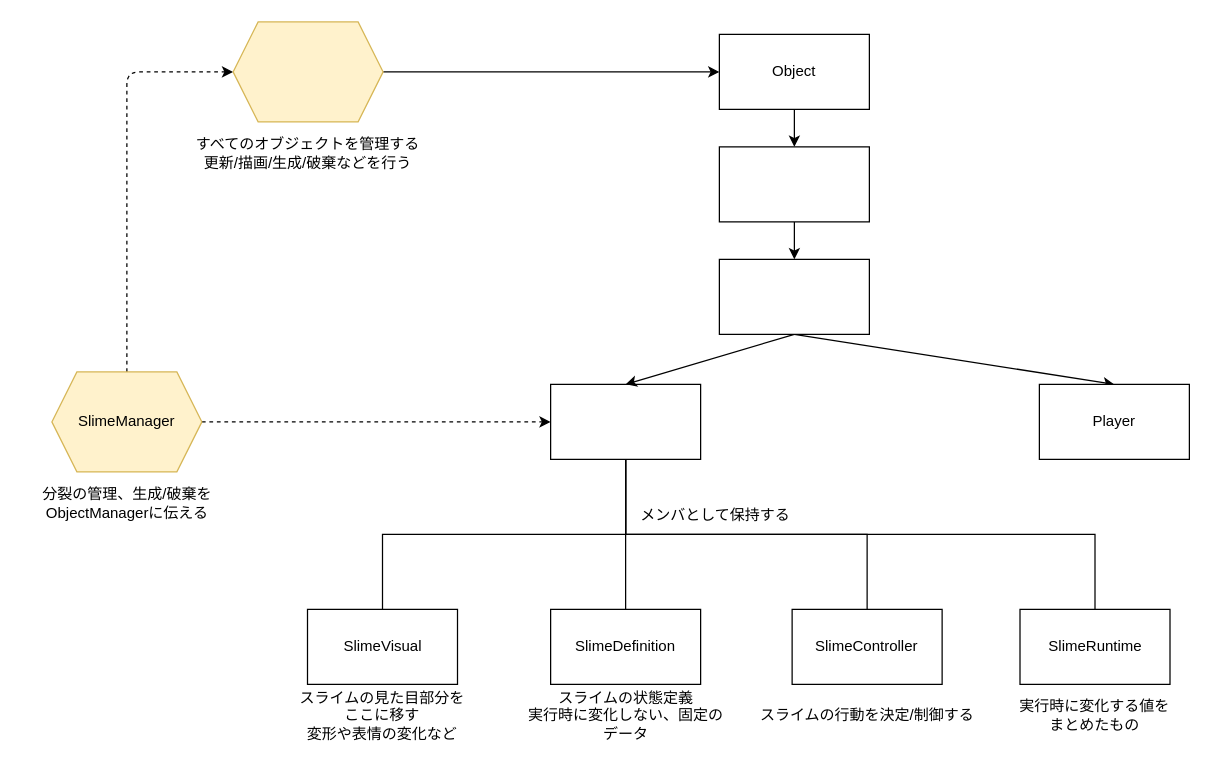
Some shapes in this 1223 by 769 pixel diagram are drawn without their labels. The shapes that lost their labels are listed below. From the top down, each one's centre as x and y in pixels, then its label:
At [307,71]: "ObjectManager".
At [793,184]: "Object3D".
At [793,296]: "CharaBase （未定）".
At [625,421]: "Slime".
